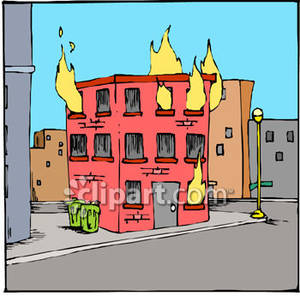Fire: (55, 51, 79, 103)
